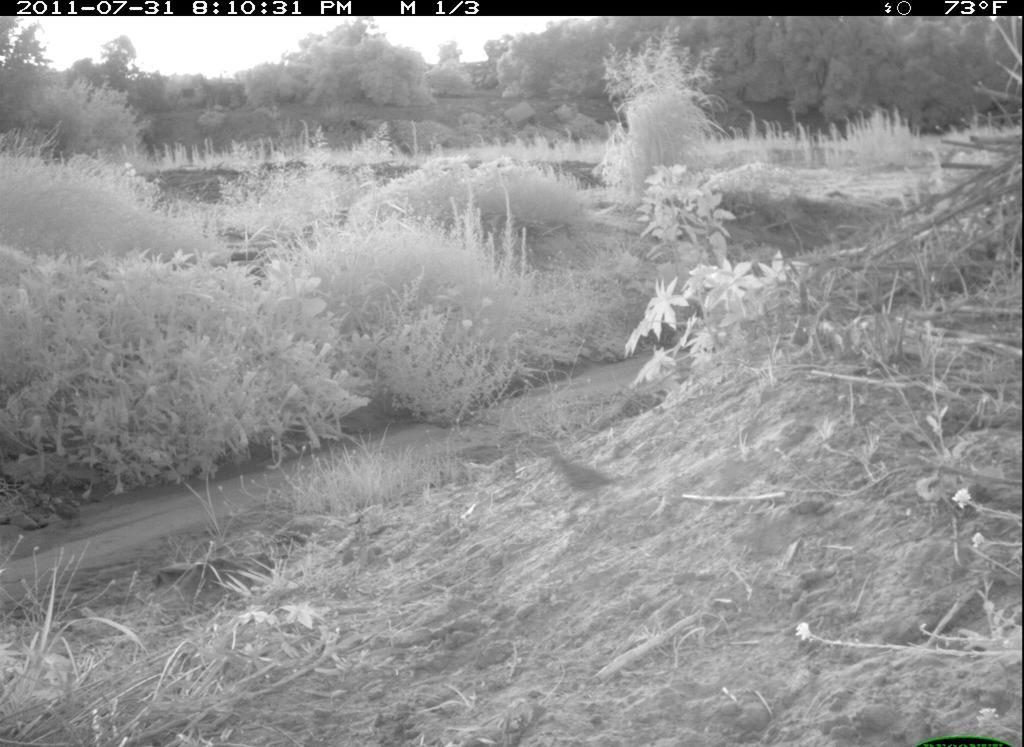bird: (48, 498, 84, 531)
